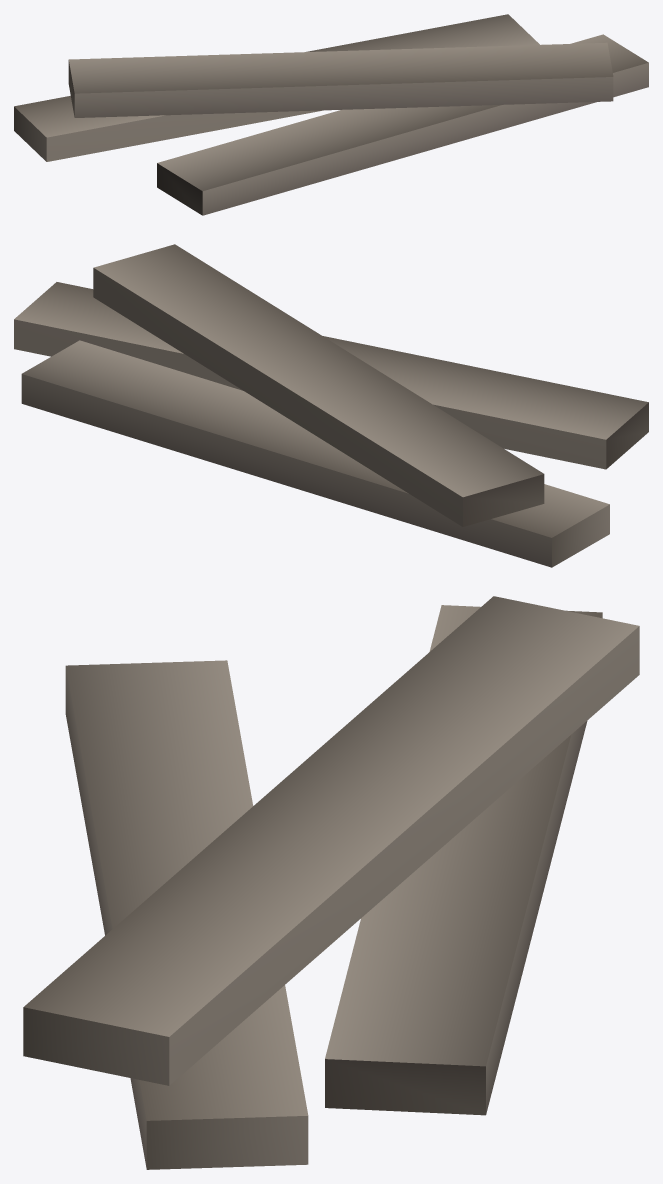
The model's file is planks.glb.
3 renders of one model, top to bottom at view 1: azimuth 30°, elevation 25°; view 2: azimuth 150°, elevation 25°; view 3: azimuth 270°, elevation 25°, orthographic. The views are drawn at different scales.
Visible parts, largest first — view 1: planks; view 2: planks; view 3: planks.
Boxes of the visible parts, x1,y1,x2,y2 form: planks: (14, 14, 648, 215); planks: (14, 244, 648, 567); planks: (23, 596, 639, 1169).
Size of the model in its own units: 1.13 by 0.1 by 0.5703.
